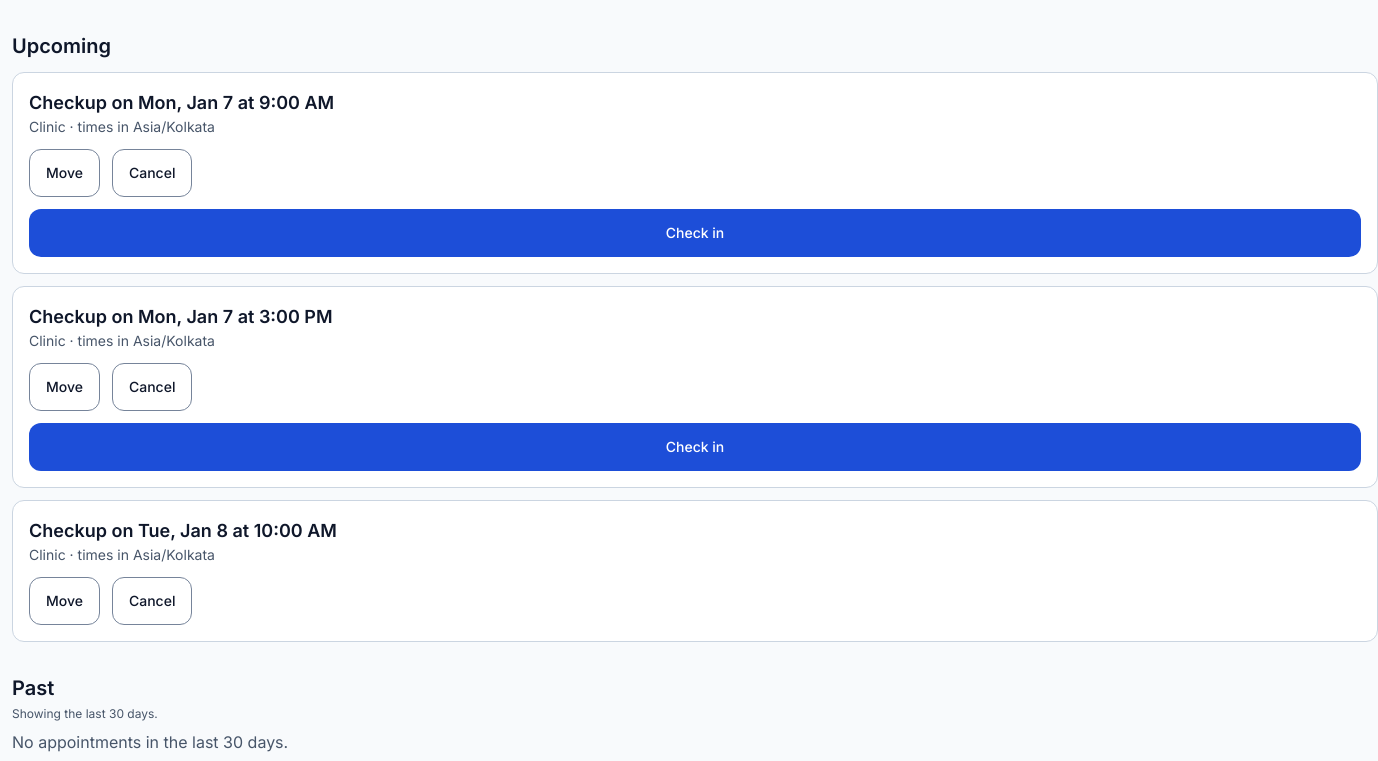
Test case: Check in › not_booked: the server's reason in words (never its text, never a clock time)
Click the button named "Check in Checkup on Mon, Jan 7 at 3:00 PM" at x=695, y=447, box x1=29 y1=423 x2=1361 y2=471
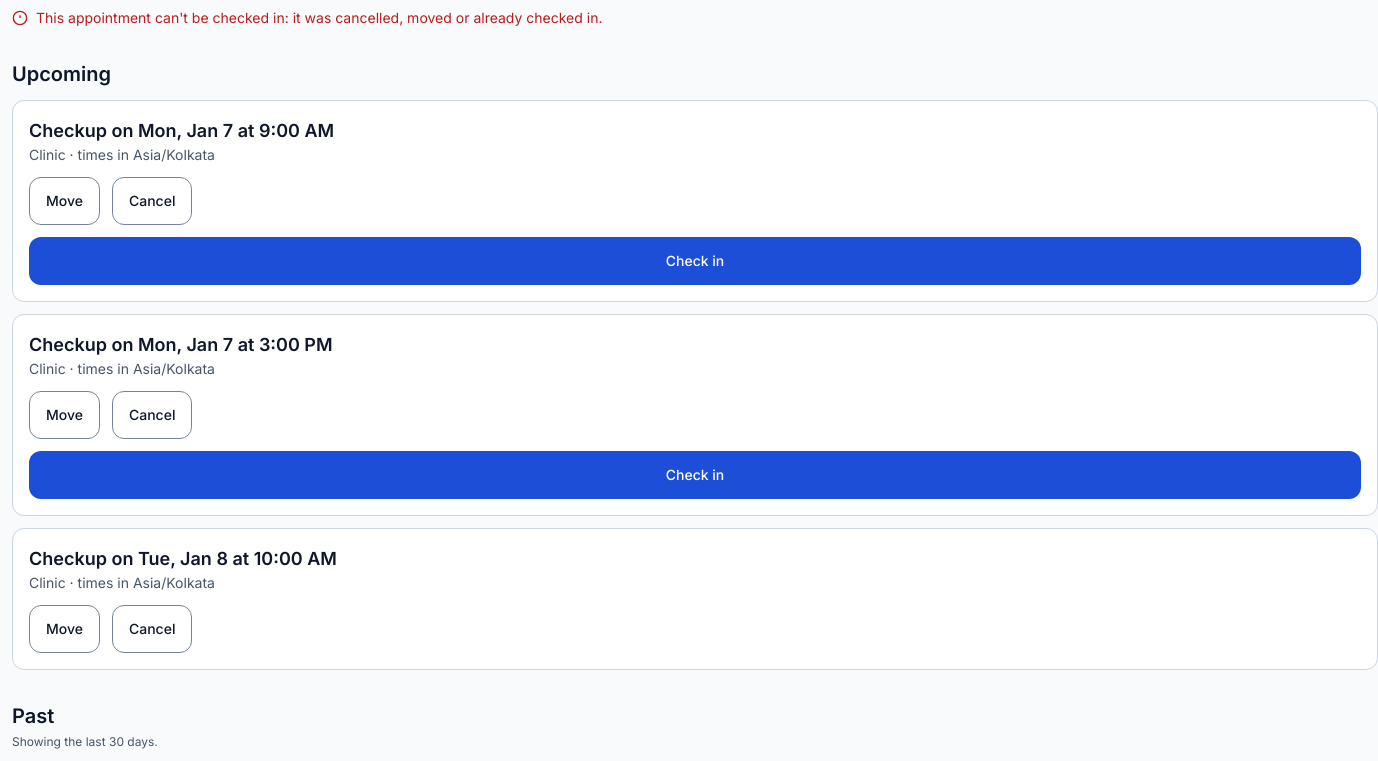
Check: the message shows "This appointment can't be checked in: it was cancelled, moved or already checked in.", box x1=36 y1=9 x2=602 y2=26
